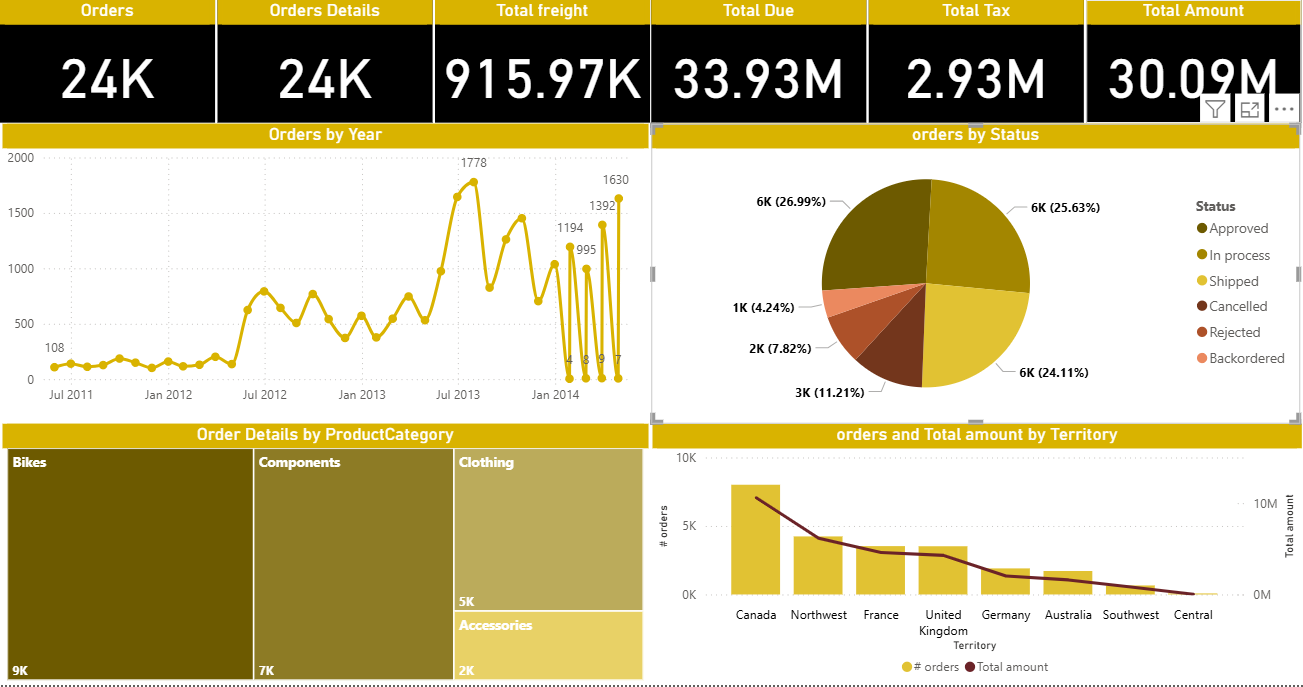

Layout of this report page (visuals, bound fields, positions):
{"tool":"powerbi","page":{"name":"Page 1","canvas":[1280,720],"ordinal":0},"visuals":[{"type":"card","title":"Orders","fields":{"Values":["Dax measures.# orders"]},"box":[0,49.4,210,120],"z":0},{"type":"card","title":"Orders Details","fields":{"Values":["Dax measures.# Order Details"]},"box":[212.5,49.4,210,120],"z":1},{"type":"card","title":"Total Amount","fields":{"Values":["Dax measures.Total amount"]},"box":[1062.6,49.4,210,120],"z":2},{"type":"card","title":"Total Due","fields":{"Values":["Dax measures.Total Due"]},"box":[637.5,49.4,210,120],"z":3},{"type":"card","title":"Total freight","fields":{"Values":["Dax measures.Total Freight"]},"box":[425,49.4,210,120],"z":4},{"type":"card","title":"Total Tax","fields":{"Values":["Dax measures.Total Tax"]},"box":[850,49.4,210,120],"z":5},{"type":"lineChart","title":"Orders by Year","fields":{"Y":["Dax measures.# orders"],"Category":["Sales.OrderDate"]},"box":[2.7,170,632.1,283.8],"z":6},{"type":"treemap","title":" Order Details by ProductCategory","fields":{"Group":["Sales.ProductCategory","Sales.ProductSubCategory","Sales.Product"],"Values":["Dax measures.# Order Details"]},"box":[3,464,632,256],"z":7},{"type":"pieChart","title":"orders by Status","fields":{"Category":["Sales.Status"],"Y":["Dax measures.# orders"]},"box":[637.5,170,634.8,293.4],"z":8},{"type":"lineStackedColumnComboChart","title":"orders and Total amount by Territory","fields":{"Category":["Sales.Territory"],"Y":["Dax measures.# orders"],"Y2":["Dax measures.Total amount"]},"box":[638,464,635,256],"z":9}]}

Visuals, with their boxes on the page's 1280x720 design canvas (x1, y1, x2, y2). These are canvas units, not pixel positions in the 1303x687 screenshot, which may show the page scaled, cropped or inside an application window:
"Orders" card: 0:49:210:169
"Orders Details" card: 212:49:422:169
"Total Amount" card: 1063:49:1273:169
"Total Due" card: 638:49:848:169
"Total freight" card: 425:49:635:169
"Total Tax" card: 850:49:1060:169
"Orders by Year" lineChart: 3:170:635:454
" Order Details by ProductCategory" treemap: 3:464:635:720
"orders by Status" pieChart: 638:170:1272:463
"orders and Total amount by Territory" lineStackedColumnComboChart: 638:464:1273:720
